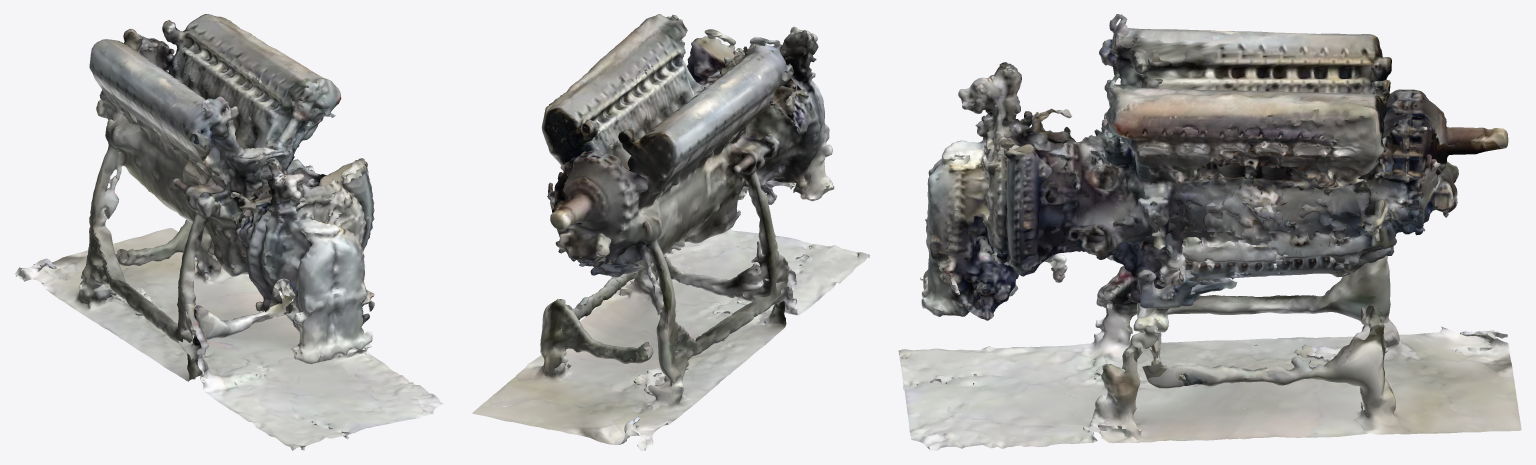
Rendered from merlin.glb.
3 renders of one model, left to right at view 1: azimuth 30°, elevation 25°; view 2: azimuth 150°, elevation 25°; view 3: azimuth 270°, elevation 25°, orthographic. The views are drawn at different scales.
Visible parts, largest first — view 1: meshes[0]; view 2: meshes[0]; view 3: meshes[0].
Boxes of the visible parts, bbox=[...] form: meshes[0]: bbox=[14, 14, 443, 450]; meshes[0]: bbox=[472, 14, 869, 450]; meshes[0]: bbox=[898, 14, 1521, 450].
Size of the model in its own units: 0.00989 by 0.0142 by 0.0232.
1 material, 1 textured.
